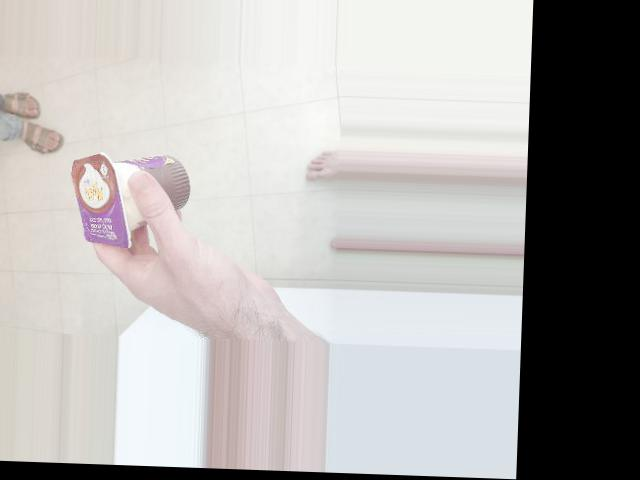milky: (60, 107, 152, 234)
